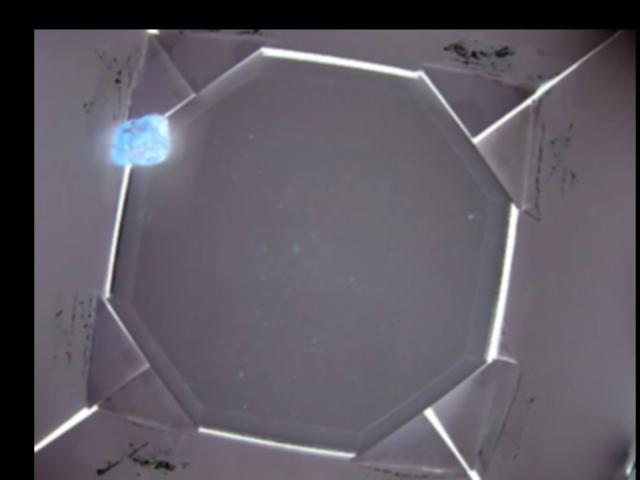Brisk: (110, 112, 167, 167)
